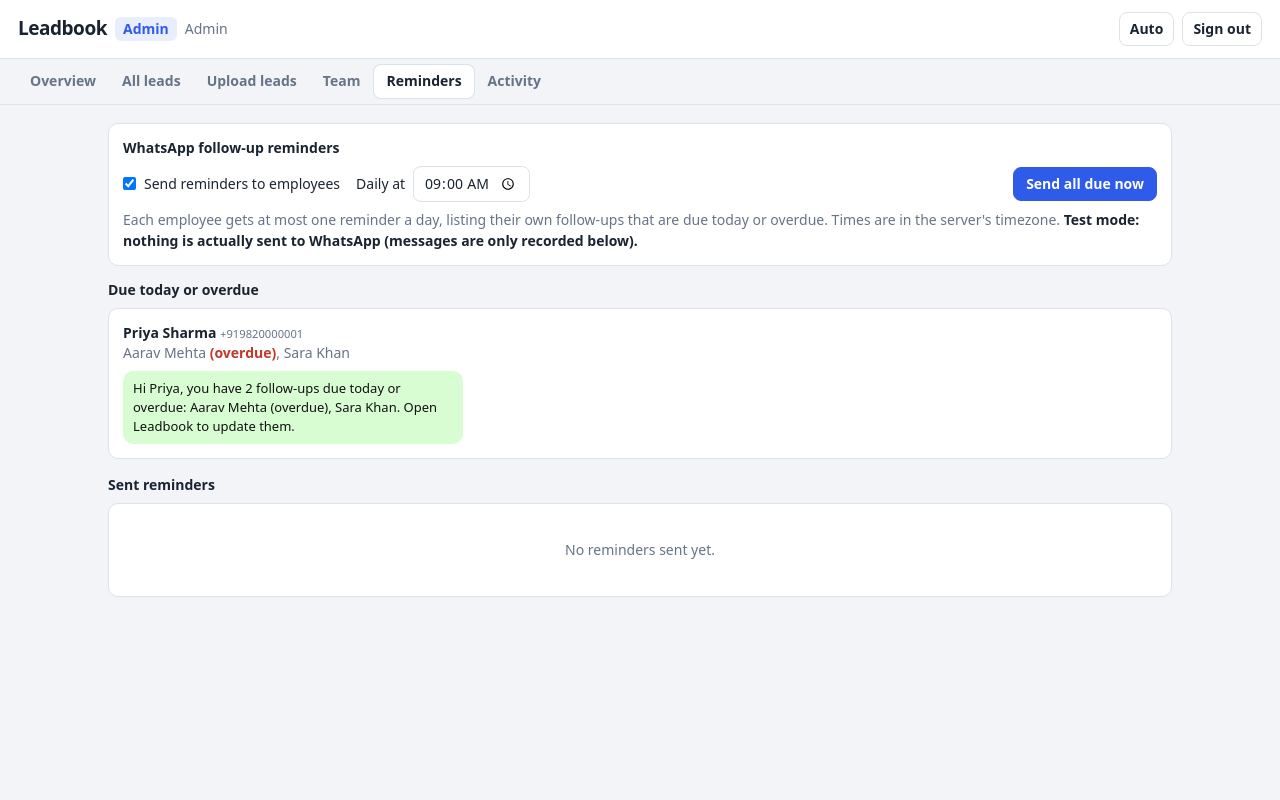
Test: Admin Reminders (9.3) › sends now and reports sent, failed, skipped and no-number outcomes
Click the button "Send all due now": (1085, 184) [1013,167,1157,201]
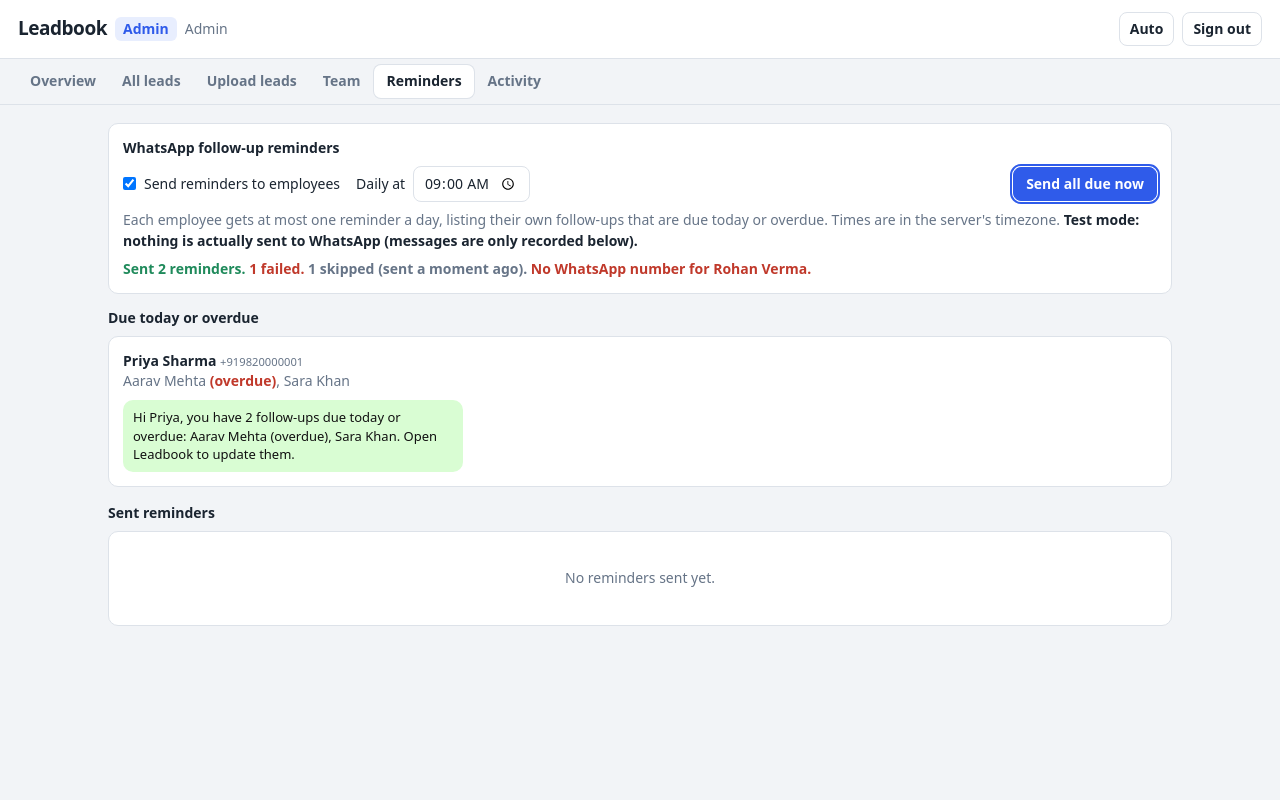
Now the message shows "Sent 2 reminders.", box [123,259,811,278]
Now the message shows "1 failed.", box [123,259,811,278]
Now the message shows "1 skipped", box [123,259,811,278]
